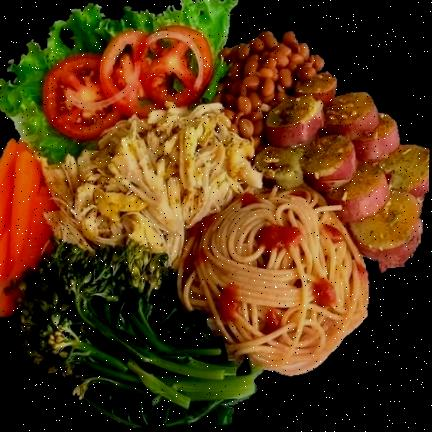beans: (214, 31, 324, 148), (260, 77, 275, 98)
carrot: (0, 139, 55, 280)
chicken: (42, 103, 261, 265)
green_vegetables: (10, 239, 256, 427)
pasta: (177, 186, 369, 374)
salad: (0, 0, 241, 161)
tomato: (44, 26, 213, 141)
